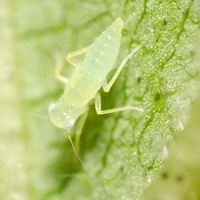insect: (48, 18, 123, 128)
